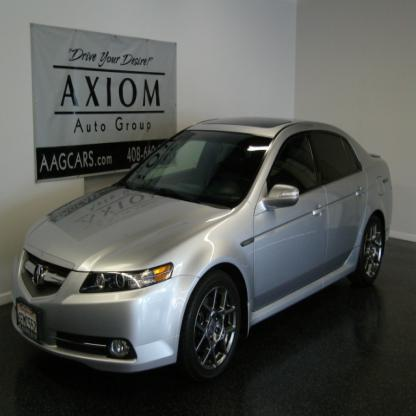Vehicle: (9, 117, 393, 386)
